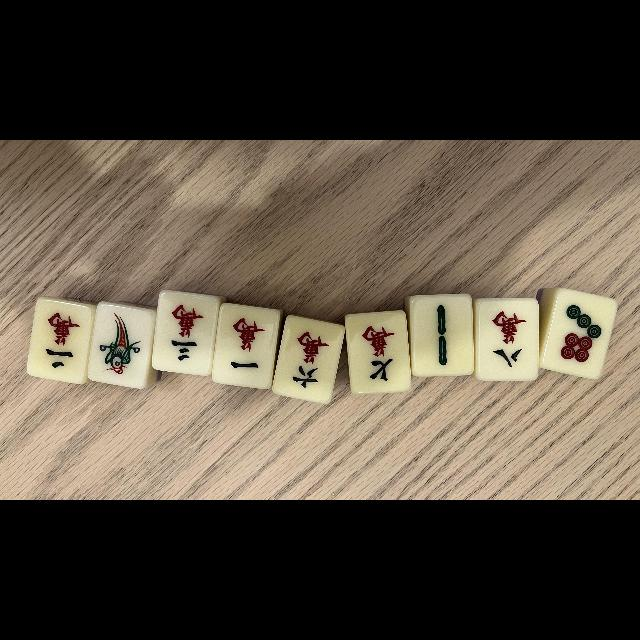b1: (92, 305, 152, 385)
b2: (412, 296, 472, 372)
c1: (218, 305, 274, 383)
c2: (28, 299, 88, 381)
c3: (155, 293, 215, 373)
c6: (279, 318, 337, 398)
c7: (347, 313, 411, 391)
c8: (480, 302, 536, 378)
d7: (546, 290, 608, 374)
